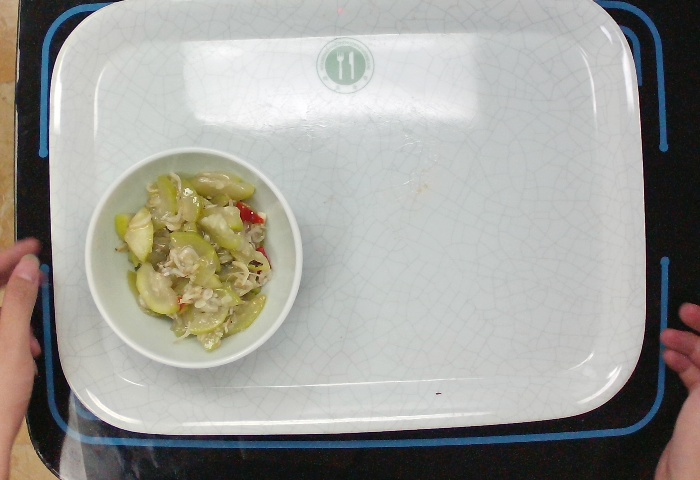JYsf-Fan_Wan: (81, 145, 309, 369)
